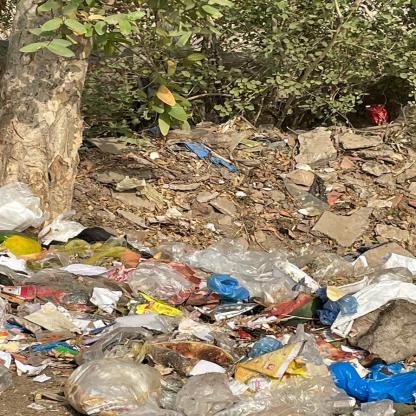Garbage: (5, 225, 416, 416)
